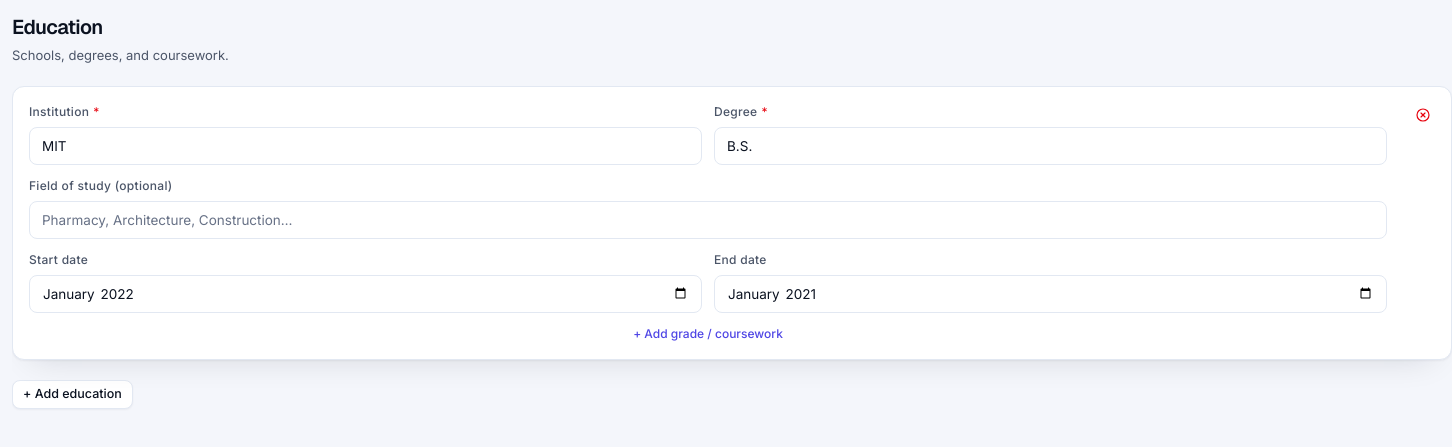
EducationForm › flags an end date that is before the start date
Click the field labelled "End date" at point(1050, 294), box [714,275,1387,313]
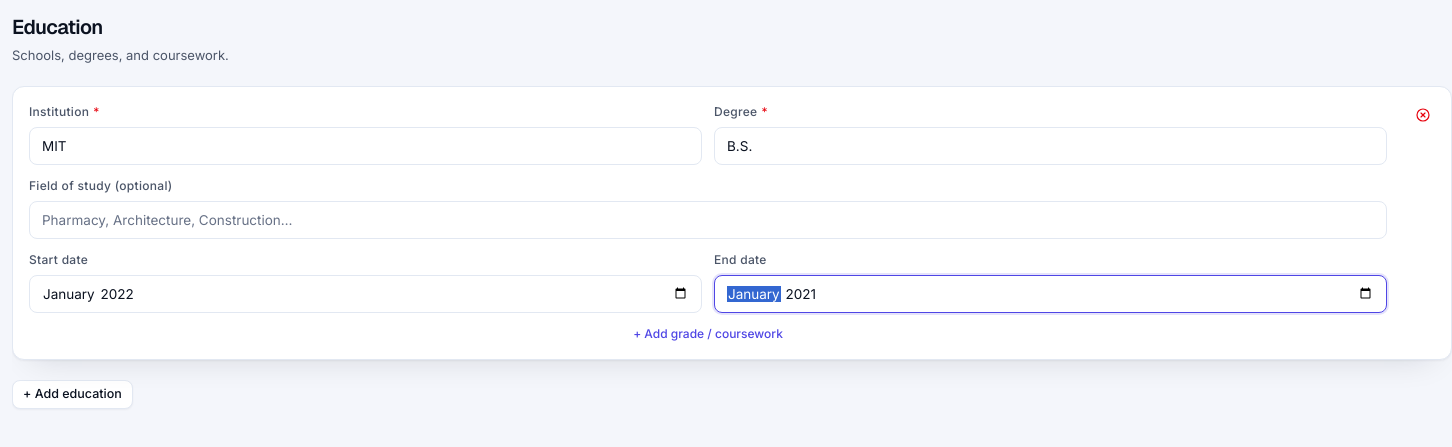
Press Tab
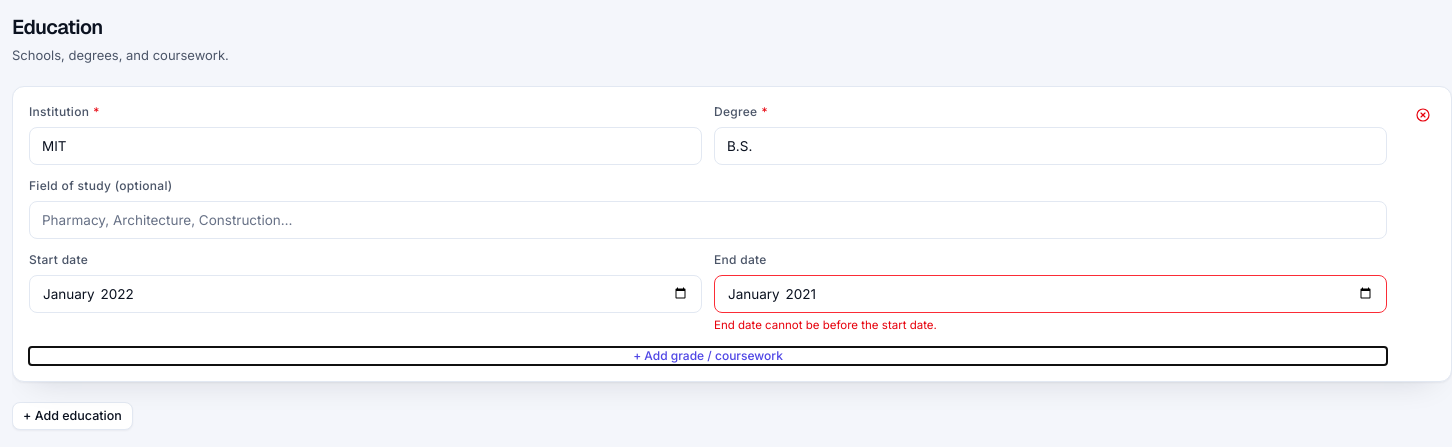
Expected: the text "End date cannot be before the start date." is shown, [714,318,937,332]
